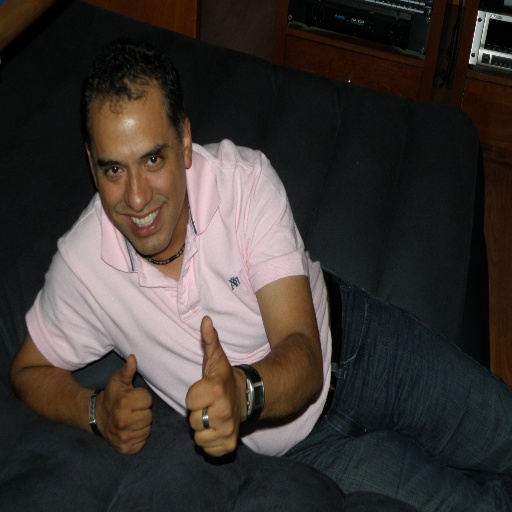hand: (182, 328, 251, 462), (98, 353, 153, 457)
